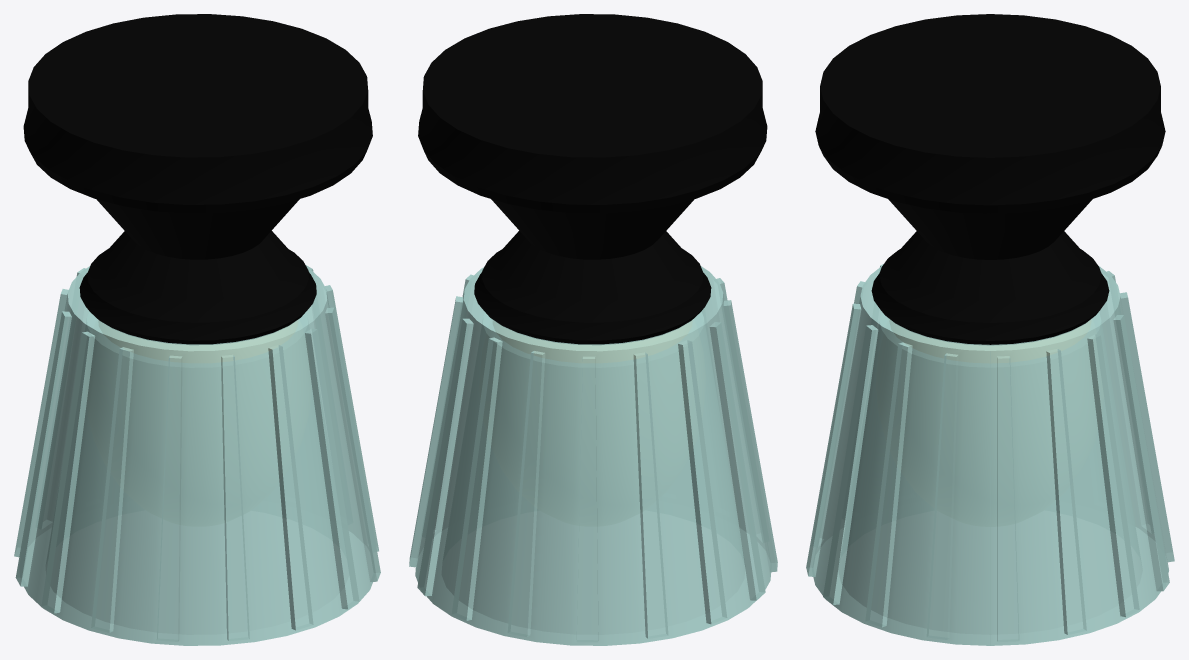
Rendered from лампочк.fbx.
3 views of the same model, side by side, from view 1: azimuth 30°, elevation 25°; view 2: azimuth 150°, elevation 25°; view 3: azimuth 270°, elevation 25° (orthographic).
Visible parts, largest first — view 1: Cylinder.036, Cylinder.035, Sphere.007; view 2: Cylinder.036, Cylinder.035, Sphere.007; view 3: Cylinder.036, Cylinder.035, Sphere.007.
Part boxes in pixels (bbox=[...]): Cylinder.036: bbox=[14, 265, 380, 645]; Cylinder.035: bbox=[23, 14, 372, 344]; Sphere.007: bbox=[98, 320, 297, 362]; Cylinder.036: bbox=[409, 266, 777, 645]; Cylinder.035: bbox=[418, 14, 767, 344]; Sphere.007: bbox=[493, 320, 692, 362]; Cylinder.036: bbox=[806, 264, 1174, 645]; Cylinder.035: bbox=[815, 14, 1165, 345]; Sphere.007: bbox=[889, 320, 1091, 363].
Size of the model in its own units: 216 by 216 by 314.
